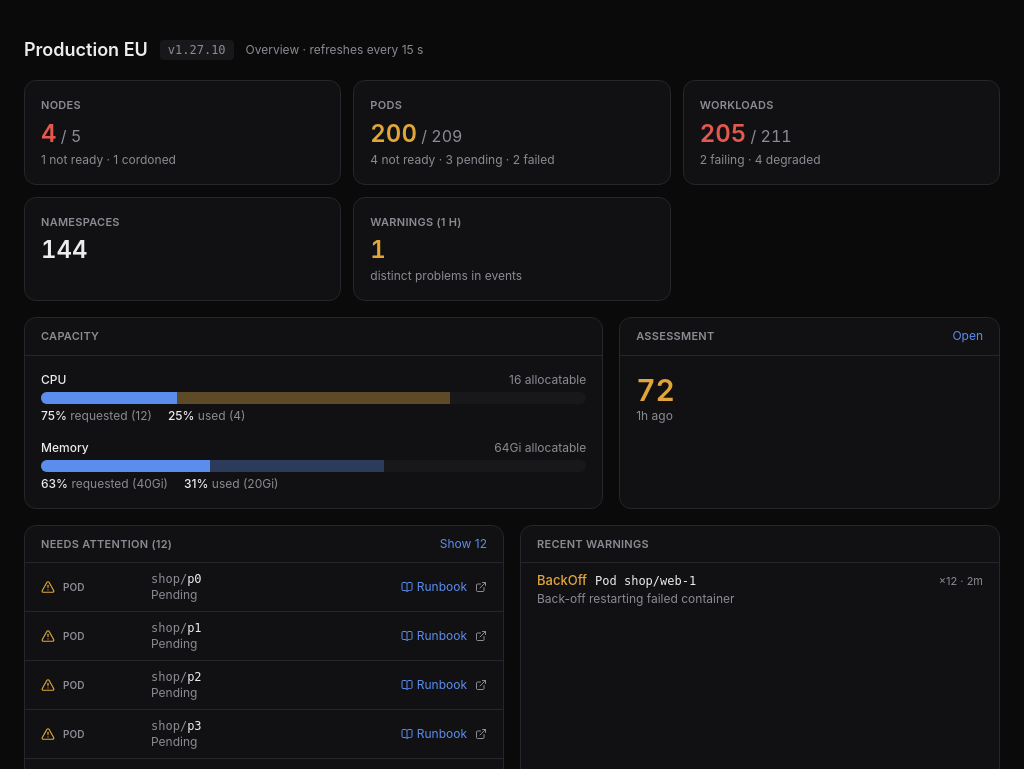
Scenario: Overview › shows only the first few attention items until asked
Expected: the text "p0" is shown, [187,572,202,586]
Expected: the text "p11" is not shown
What coordinates should you click on to do the following:
click the button "Show 12"
I would click on:
 (463, 544)
Its box is [440,536,487,552].
(page scrolled)
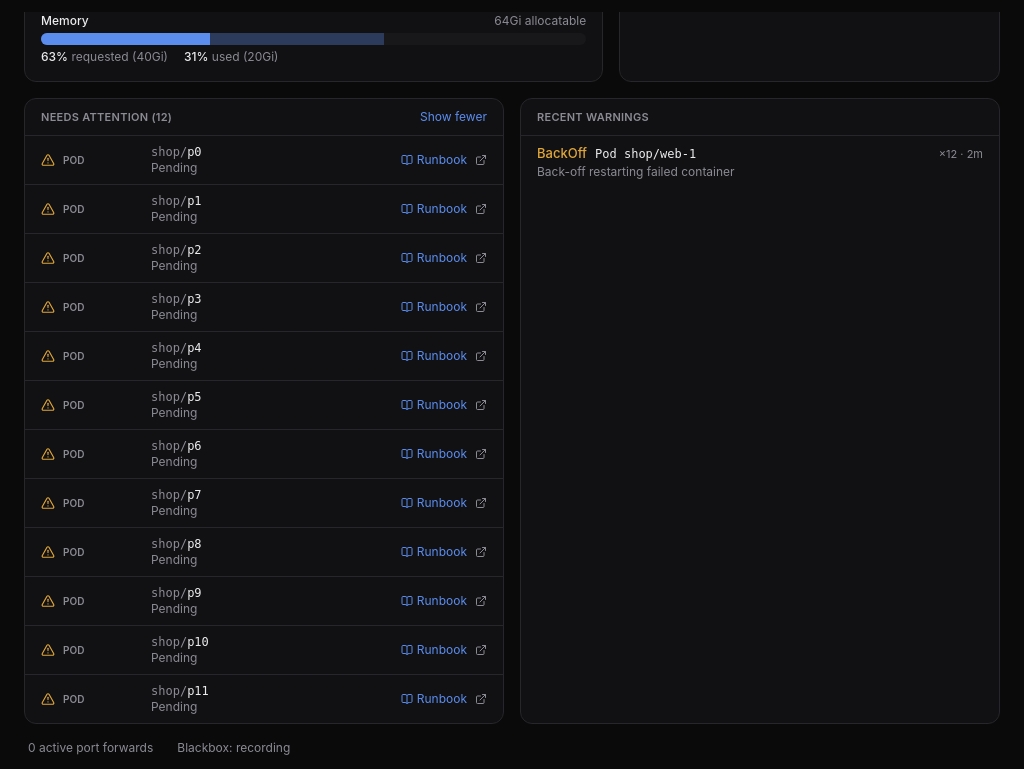
Expected: the text "p11" is shown, [187,684,209,698]
